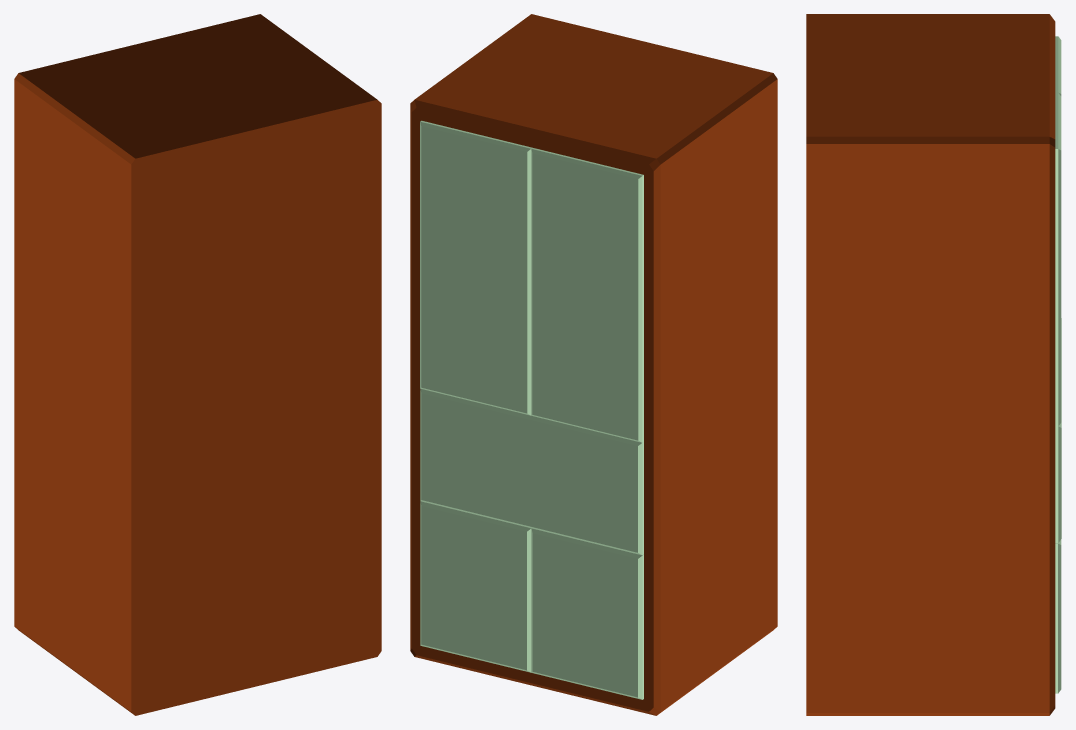
The model's file is Wardrobe 3.fbx.
3 views of the same model, side by side, from view 1: azimuth 30°, elevation 25°; view 2: azimuth 150°, elevation 25°; view 3: azimuth 270°, elevation 25° (orthographic). The views are drawn at different scales.
Visible parts, largest first — view 1: Node 0; view 2: Node 0, Node 2, Node 3, Node 1, Node 4, Node 5; view 3: Node 0, Node 3, Node 5, Node 1.
Boxes of the visible parts, x1=… form: Node 0: x1=14, y1=14, x2=381, y2=715; Node 0: x1=410, y1=14, x2=777, y2=715; Node 2: x1=531, y1=148, x2=643, y2=442; Node 3: x1=420, y1=120, x2=532, y2=415; Node 1: x1=420, y1=388, x2=643, y2=555; Node 4: x1=531, y1=528, x2=643, y2=699; Node 5: x1=420, y1=501, x2=531, y2=672; Node 0: x1=806, y1=14, x2=1055, y2=715; Node 3: x1=1055, y1=92, x2=1061, y2=426; Node 5: x1=1055, y1=539, x2=1061, y2=693; Node 1: x1=1055, y1=318, x2=1061, y2=543.
Size of the model in its own units: 1.4 by 3.5 by 1.65.
